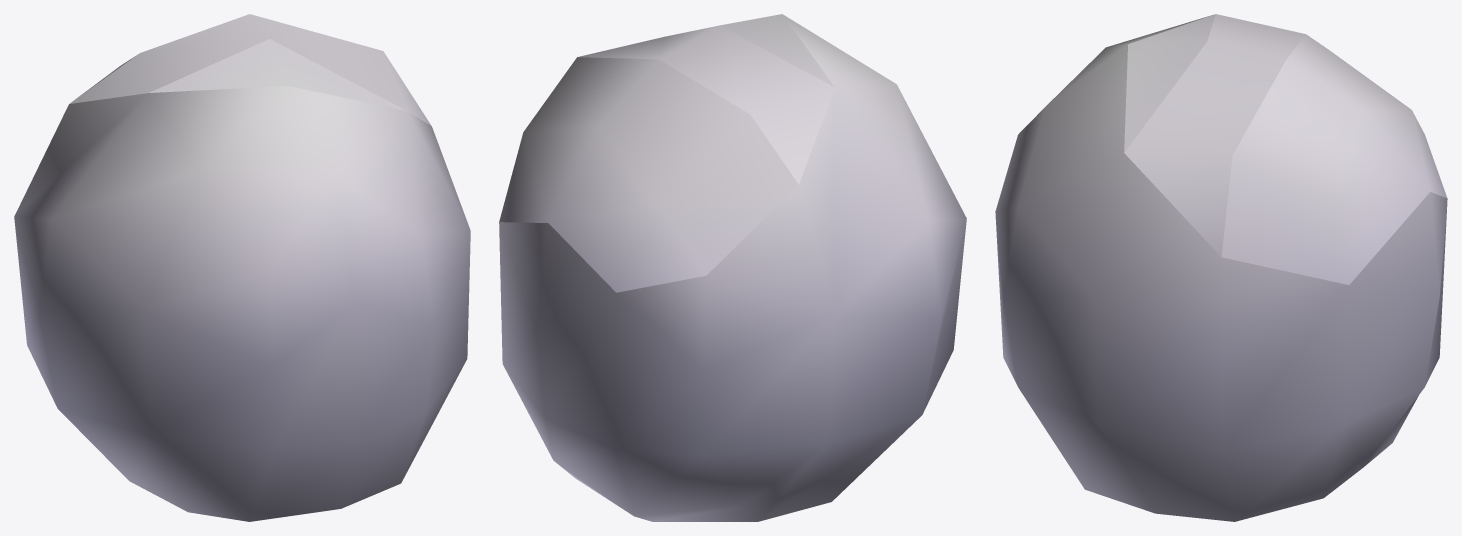
File: HolidaySnowManHead.glb
3 renders of one model, left to right at view 1: azimuth 30°, elevation 25°; view 2: azimuth 150°, elevation 25°; view 3: azimuth 270°, elevation 25°, orthographic. The views are drawn at different scales.
Parts seen in each view (by area): view 1: HolidaySnowManHead; view 2: HolidaySnowManHead; view 3: HolidaySnowManHead.
Part boxes in pixels (left/top/right/bottom): HolidaySnowManHead: left=14, top=14, right=470, bottom=521; HolidaySnowManHead: left=499, top=14, right=966, bottom=521; HolidaySnowManHead: left=995, top=14, right=1447, bottom=521.
Size of the model in its own units: 0.2546 by 0.2534 by 0.246.
